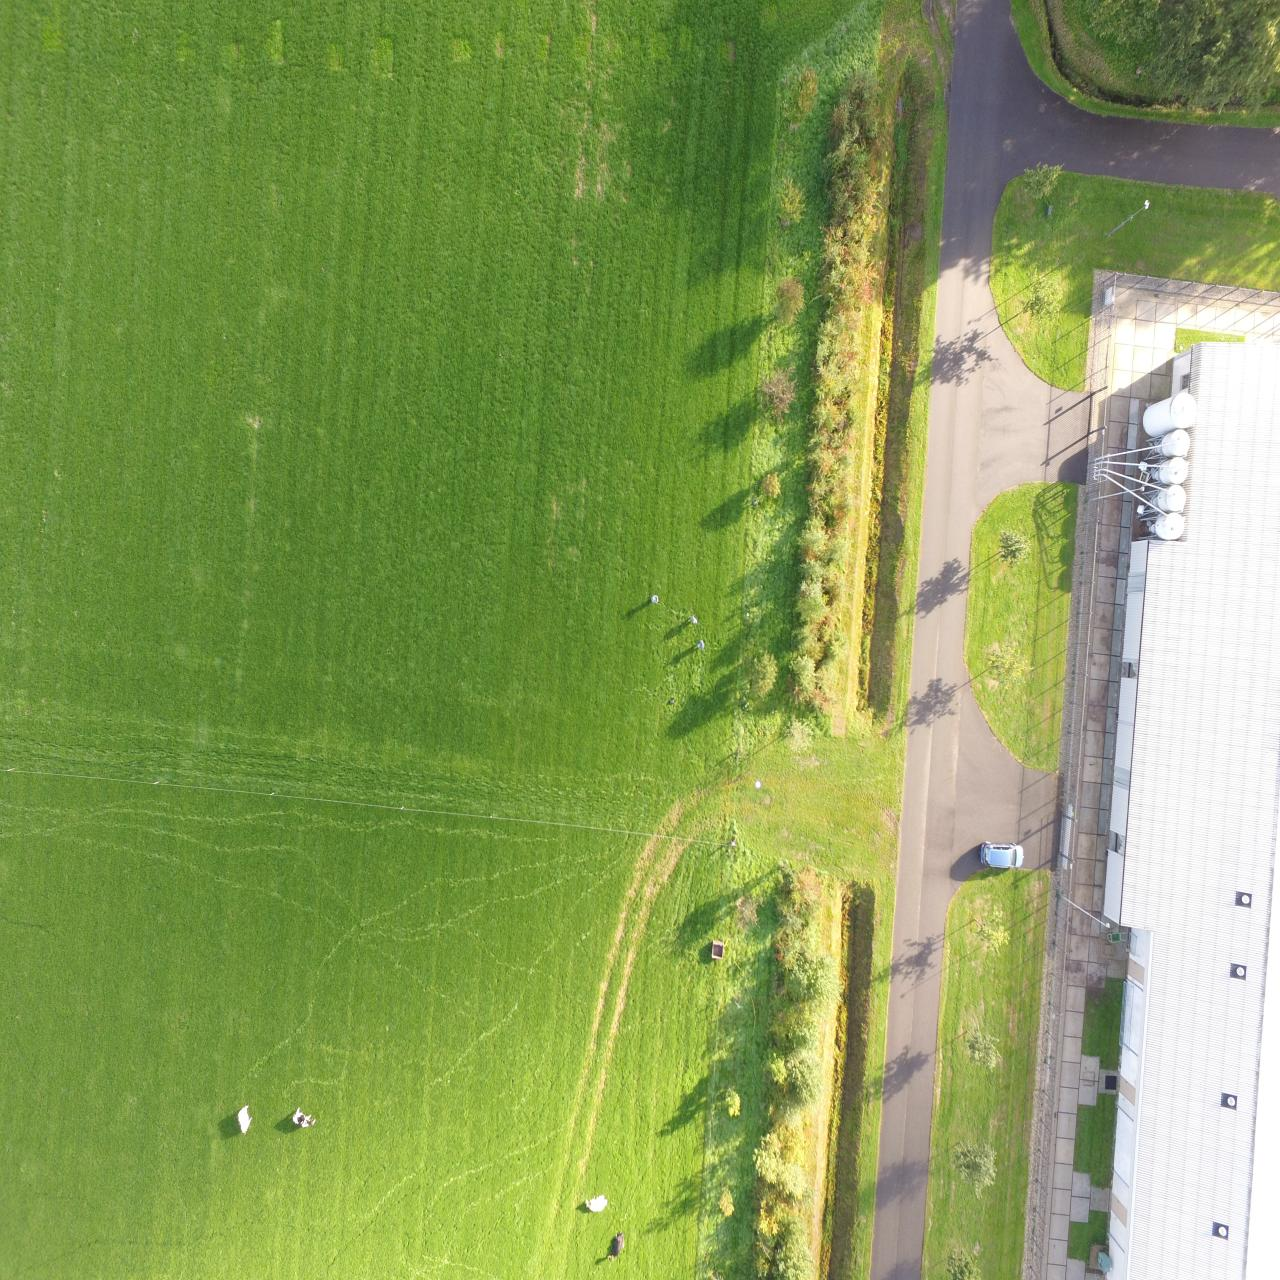cow: (292, 1105, 319, 1129), (606, 1231, 625, 1261), (237, 1102, 253, 1135), (584, 1193, 608, 1213)
